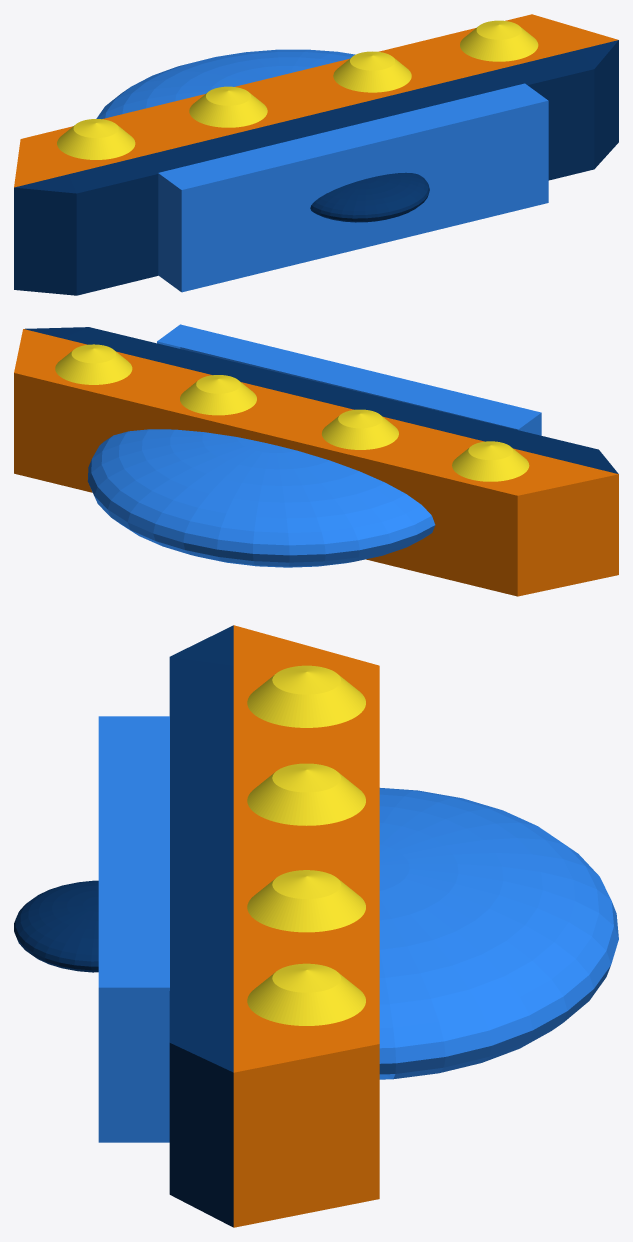
File: PersonajeJuego2.fbx
3 renders of one model, top to bottom at view 1: azimuth 30°, elevation 25°; view 2: azimuth 150°, elevation 25°; view 3: azimuth 270°, elevation 25°, orthographic. The views are drawn at different scales.
Visible parts, largest first — view 1: OvniJunto; view 2: OvniJunto; view 3: OvniJunto.
Part boxes in pixels (bbox=[...]): OvniJunto: bbox=[14, 14, 618, 295]; OvniJunto: bbox=[14, 324, 618, 596]; OvniJunto: bbox=[14, 625, 618, 1227].
Bounding box in the file's own units: 306 × 59.84 × 175.
7 materials, 7 textured.
